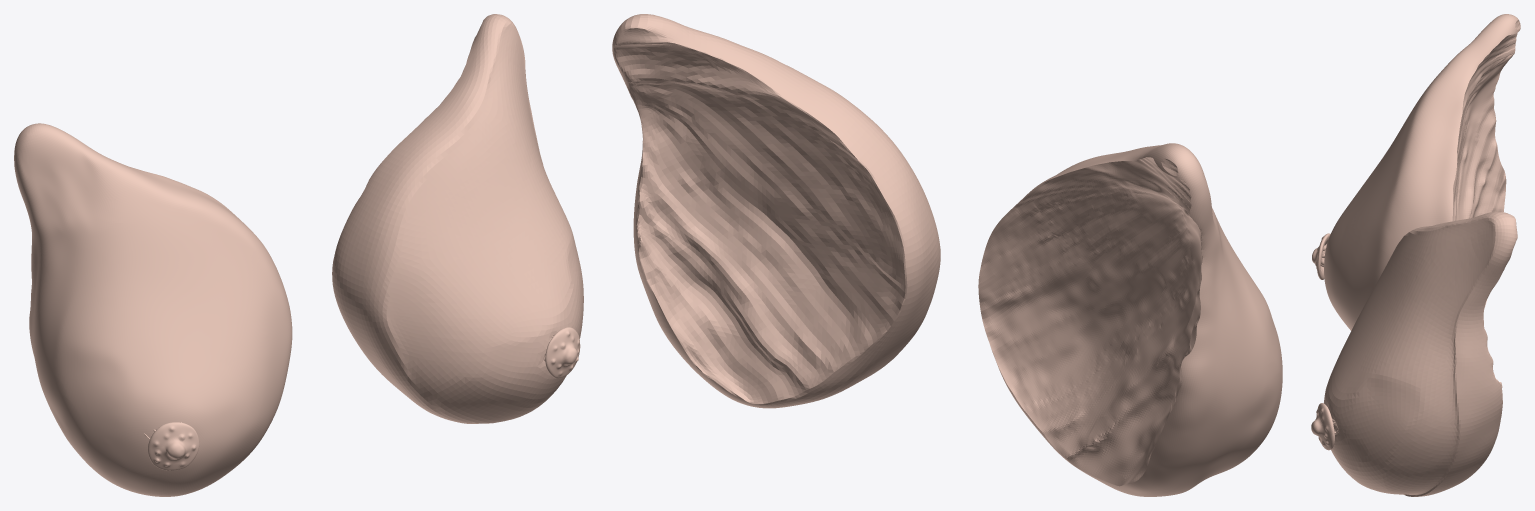
Rendered from mammary-glands.glb.
The picture shows the model from 3 angles, left to right: view 1: azimuth 30°, elevation 25°; view 2: azimuth 150°, elevation 25°; view 3: azimuth 270°, elevation 25°; orthographic projection. The views are drawn at different scales.
Parts seen in each view (by area): view 1: mammary-glands; view 2: mammary-glands; view 3: mammary-glands.
Boxes of the visible parts, x1=… form: mammary-glands: x1=14, y1=14, x2=583, y2=496; mammary-glands: x1=612, y1=14, x2=1282, y2=496; mammary-glands: x1=1311, y1=14, x2=1520, y2=496.
Size of the model in its own units: 0.2889 by 0.1826 by 0.1135.
